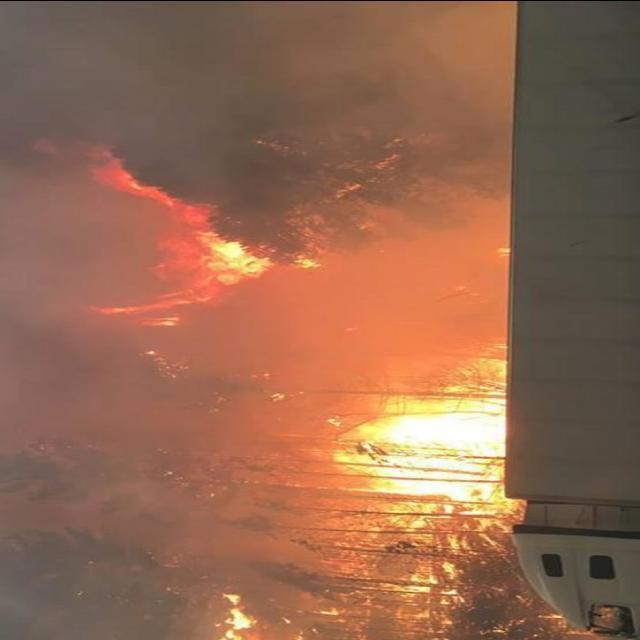Fire: (72, 145, 302, 313), (324, 335, 505, 548)
